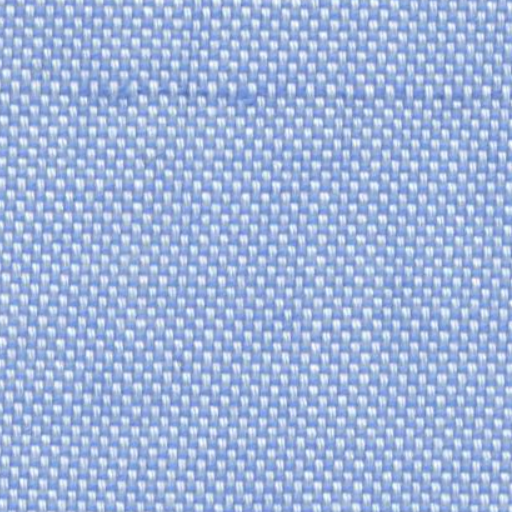DaiSha: (105, 70, 465, 114)
